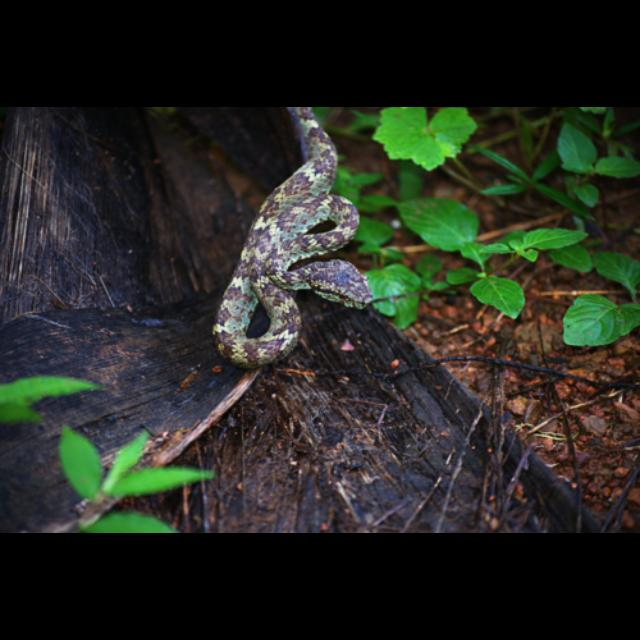snake: (210, 106, 374, 362)
